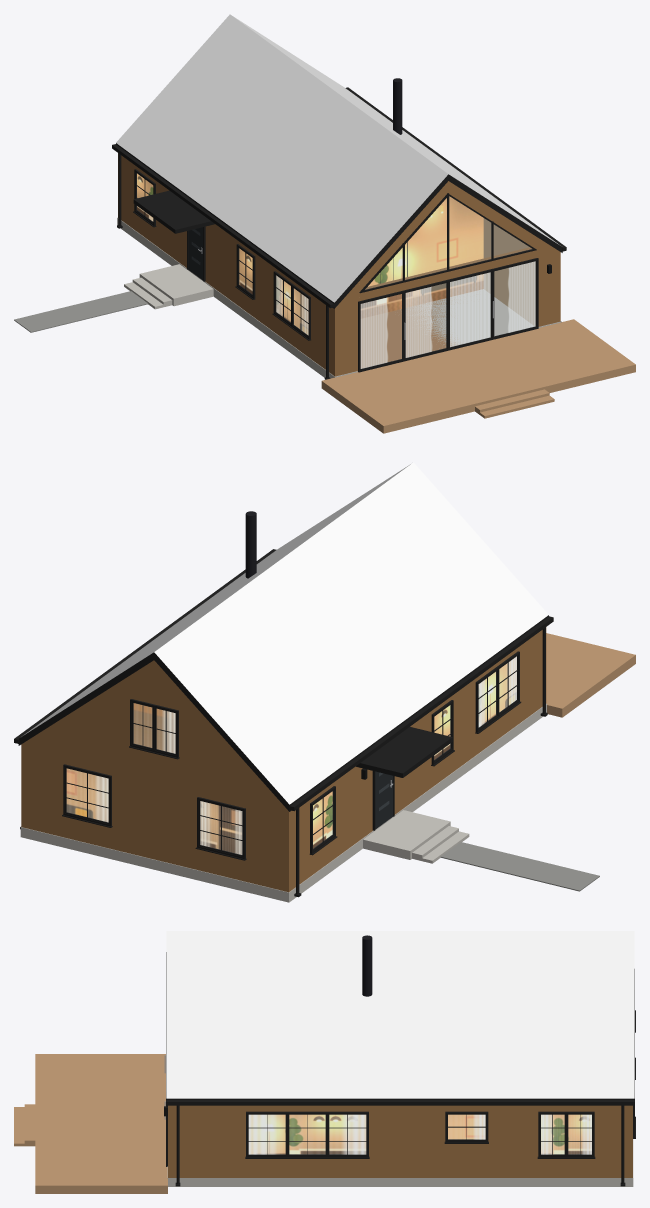
File: sade118_c0_p0_m1.glb
3 views of the same model, one above another, from view 1: azimuth 30°, elevation 25°; view 2: azimuth 150°, elevation 25°; view 3: azimuth 270°, elevation 25° (orthographic). The views are drawn at different scales.
Visible parts, largest first — view 1: roof, deck, glass, wall, room, veil, plinth, fascia, frame, soffit, interior_side, paving (+2 smaller); view 2: roof, wall, fascia, plinth, room, glass, frame, deck, paving, sheer, door, metal; view 3: roof, wall, deck, glass, room, frame, fascia, plinth, sheer, metal.
Boxes of the visible parts, x1,y1,x2,y2 form: roof: (116, 14, 560, 302); deck: (321, 319, 635, 433); glass: (137, 174, 535, 368); wall: (118, 153, 560, 376); room: (137, 173, 483, 333); veil: (361, 261, 535, 368); plinth: (117, 217, 561, 378); fascia: (112, 87, 566, 379); frame: (133, 169, 538, 372); soffit: (361, 299, 457, 368); interior_side: (483, 218, 535, 325); paving: (14, 291, 147, 332); roof: (21, 462, 548, 804); wall: (21, 627, 546, 892); fascia: (14, 549, 553, 897); plinth: (20, 703, 547, 902); room: (66, 659, 515, 854); glass: (67, 657, 516, 854); frame: (62, 651, 521, 860); deck: (546, 633, 635, 717); paving: (440, 842, 599, 891); sheer: (95, 656, 516, 854); door: (375, 771, 393, 829); metal: (245, 511, 256, 578); roof: (166, 931, 634, 1098); wall: (168, 1105, 632, 1177); deck: (14, 1054, 167, 1193); glass: (249, 1115, 591, 1153); room: (250, 1114, 591, 1154); frame: (166, 952, 635, 1166); fascia: (166, 1098, 634, 1186); plinth: (167, 1139, 633, 1186); sheer: (248, 1114, 591, 1154); metal: (362, 935, 372, 996).
Bounding box in the file's own units: 15.4 × 7.07 × 18.74.
18 materials, 7 textured.
